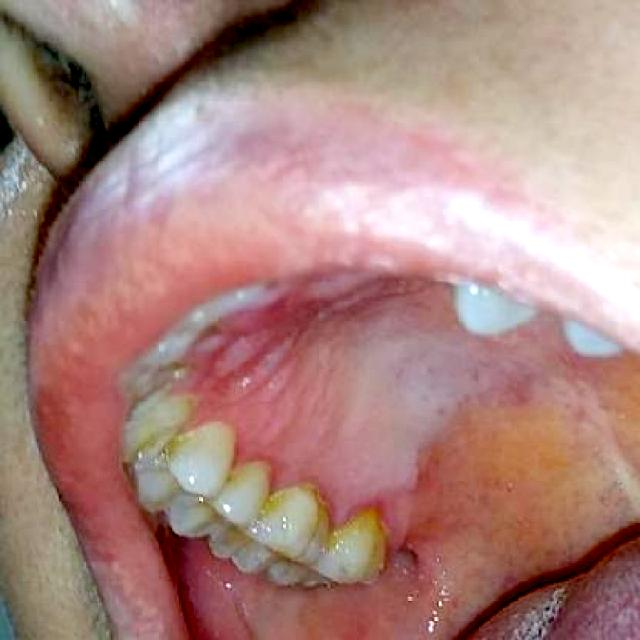Plaque: (277, 485, 333, 523), (331, 510, 390, 539), (231, 462, 273, 495)
